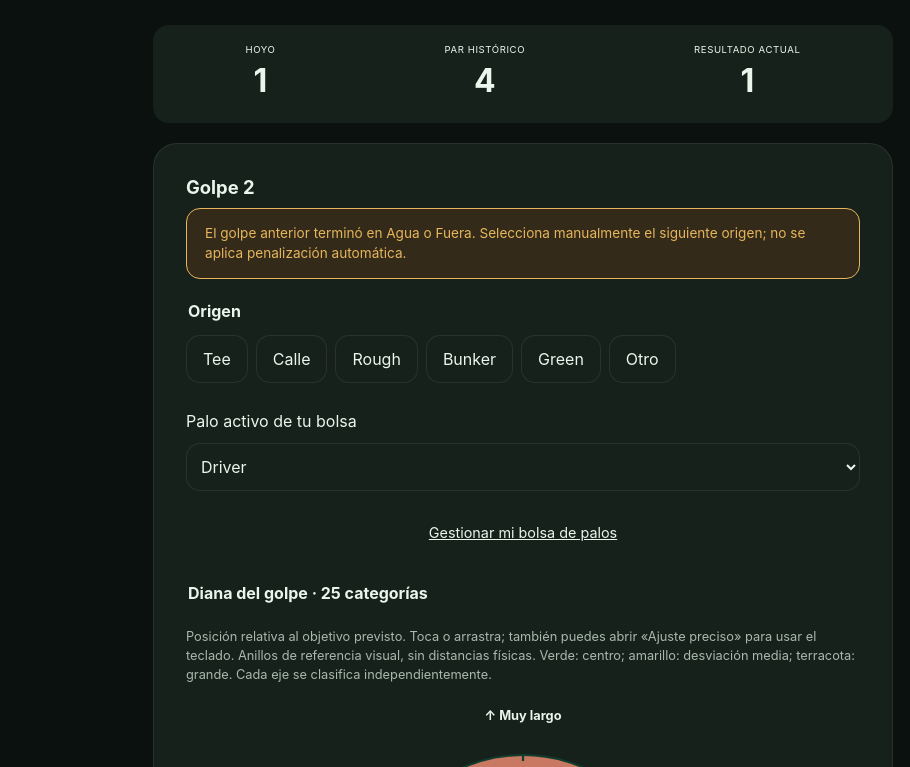
Flujo real de juego › agua exige origen manual y permite cambiar desde putting a normal
(page scrolled)
Check: the heading "Golpe 2" is shown, box [186, 176, 255, 198]
Check: the text "Selecciona manualmente el siguiente origen" is shown, box [205, 225, 806, 261]
Click the button "Green" at (561, 359), box [521, 335, 601, 383]
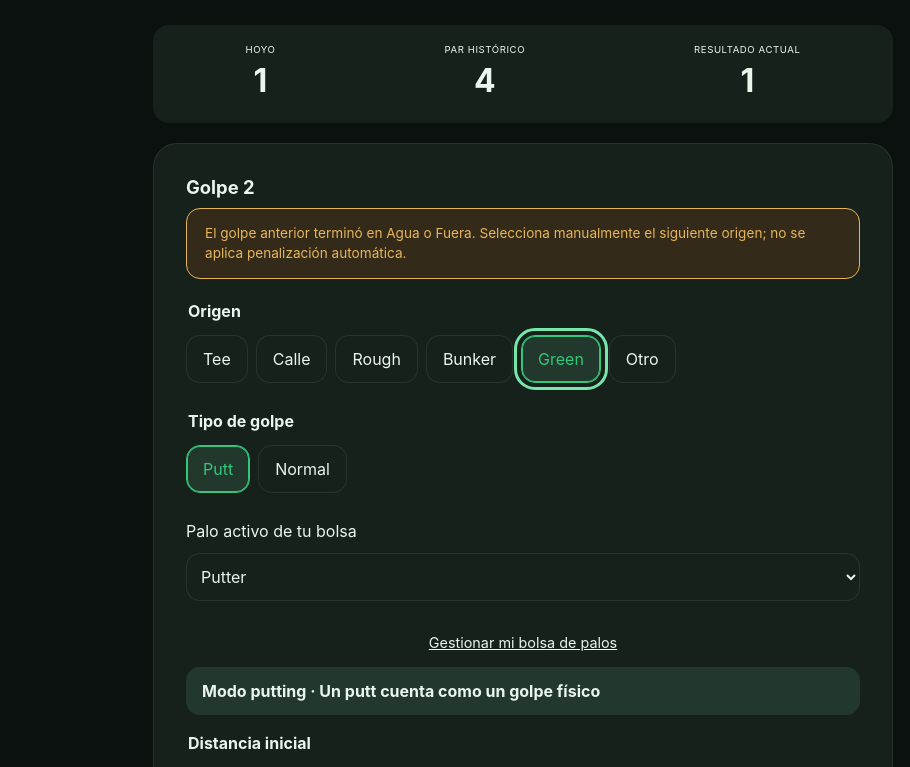
Check: the text "Tipo de golpe" is shown, box [186, 409, 296, 433]
Click the button "Normal" at (303, 469), box [258, 445, 347, 493]
(page scrolled)
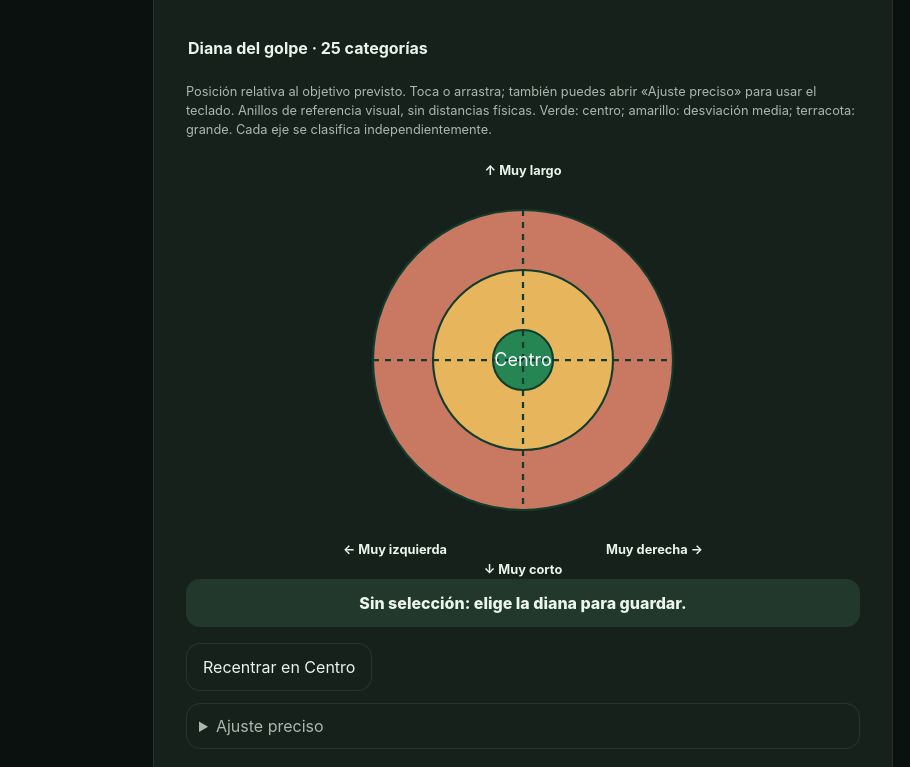
Check: the picture named "Diana circular interactiva" is shown, box [343, 180, 703, 540]
